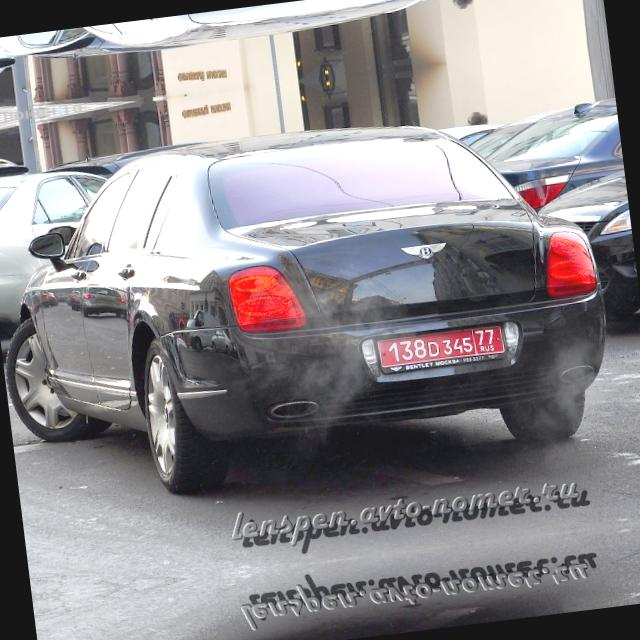diplomatic: (368, 313, 514, 376)
